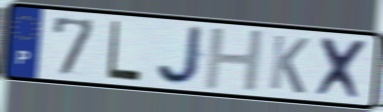7: (49, 15, 97, 77)
H: (202, 26, 267, 93)
J: (154, 24, 207, 87)
K: (267, 32, 312, 97)
L: (105, 19, 144, 84)
X: (313, 35, 373, 103)
